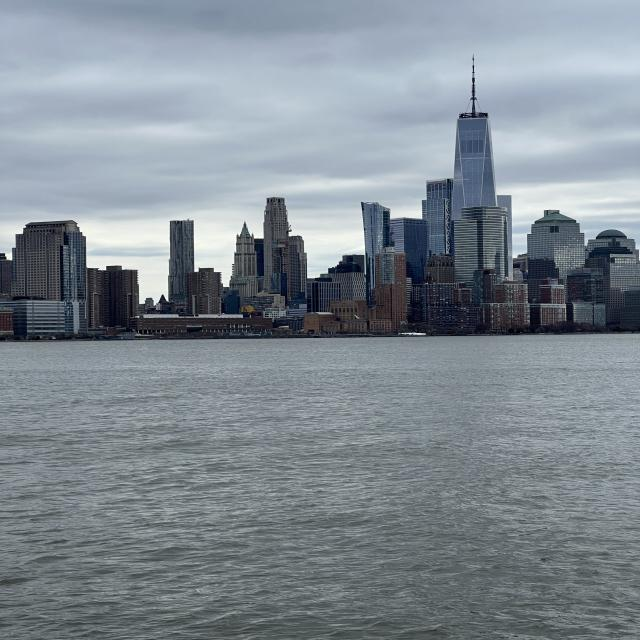WTC: (452, 56, 500, 208)
